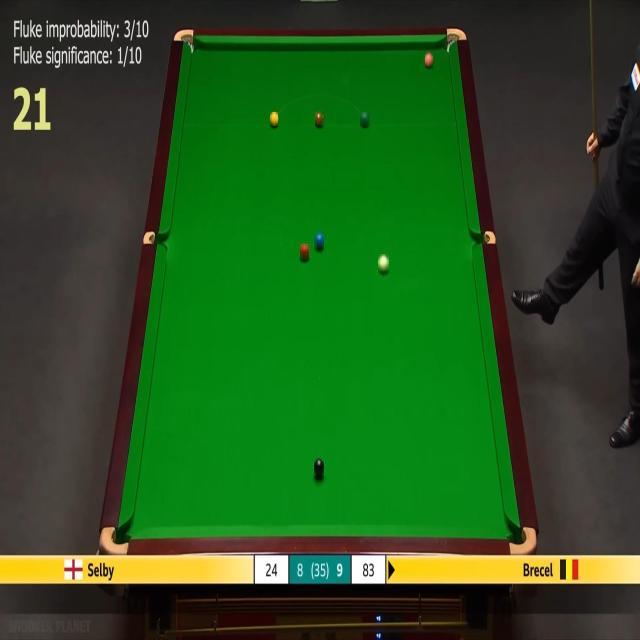Ball: (378, 254, 389, 273), (314, 458, 324, 478), (314, 232, 324, 250), (300, 244, 309, 260), (360, 112, 370, 126), (425, 52, 433, 68), (316, 112, 324, 126), (270, 112, 278, 126)
